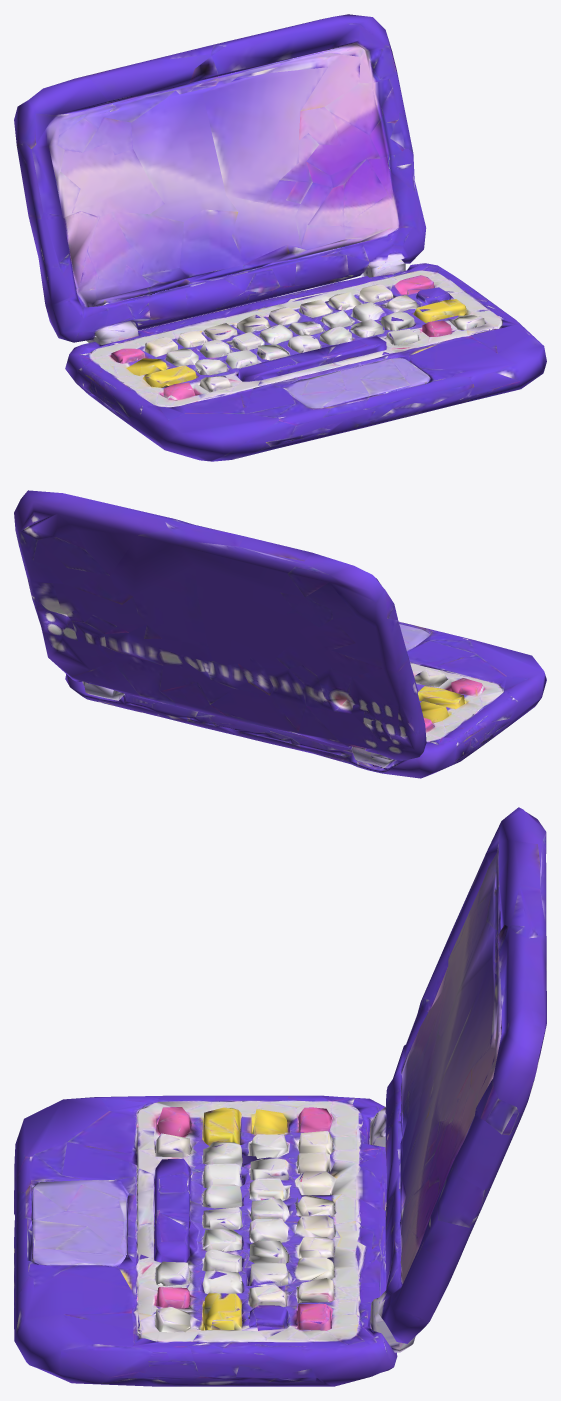
File: laptop.glb
3 renders of one model, top to bottom at view 1: azimuth 30°, elevation 25°; view 2: azimuth 150°, elevation 25°; view 3: azimuth 270°, elevation 25°, orthographic. The views are drawn at different scales.
Size of the model in its own units: 1.9 by 1.19 by 1.64.
1 material, 1 textured.
